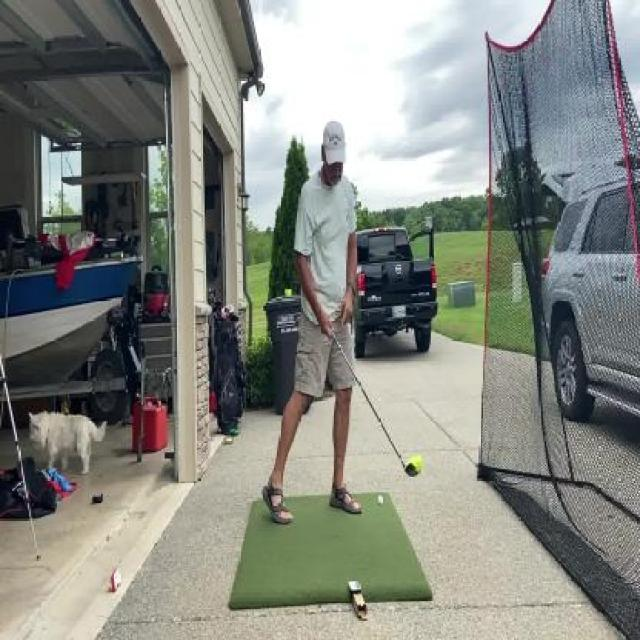club head: (401, 454, 422, 478)
